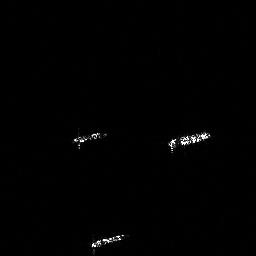ship: (166, 129, 212, 153), (70, 129, 108, 150), (89, 231, 127, 249)
